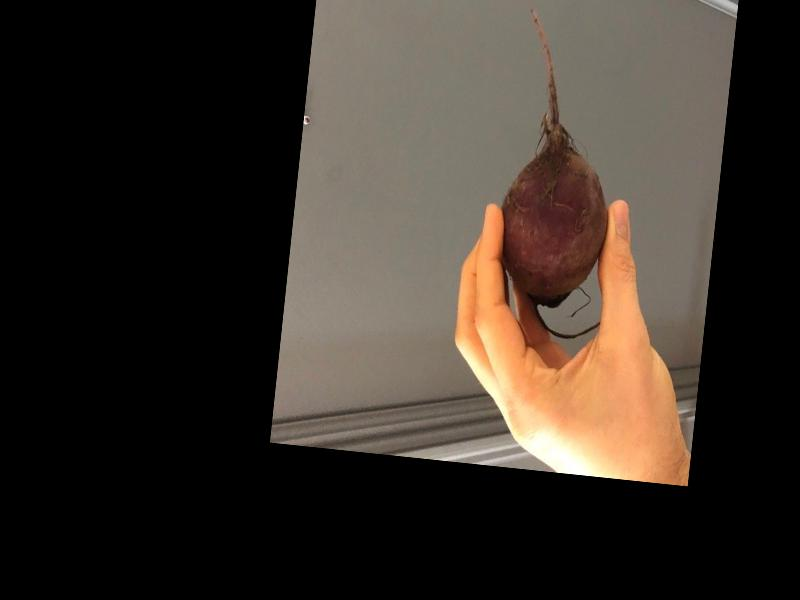Beet: (492, 1, 631, 340)
